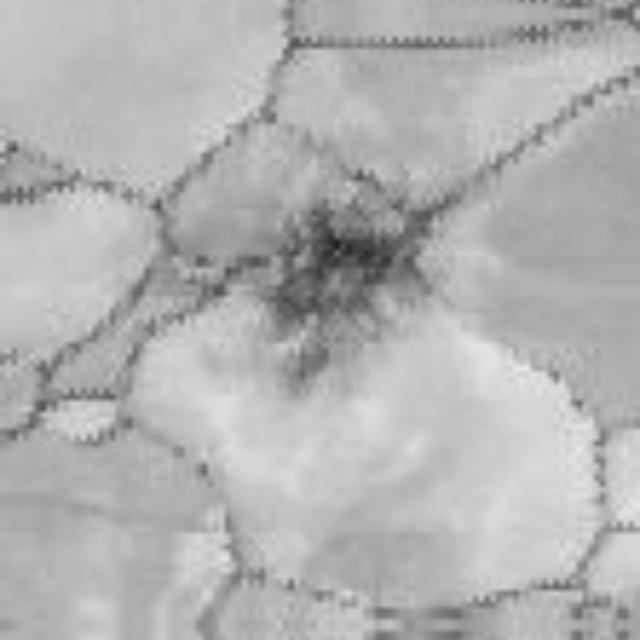good_void: (252, 201, 439, 401)
